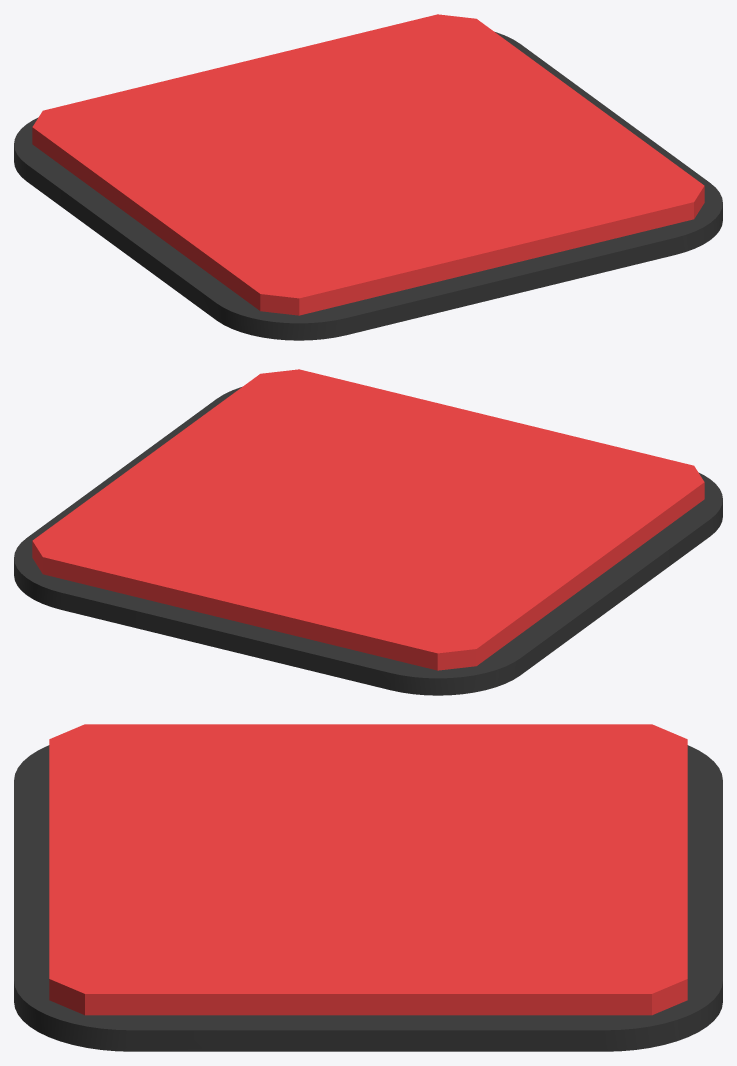
Rendered from pressurePlate.fbx.
The picture shows the model from 3 angles, top to bottom: view 1: azimuth 30°, elevation 25°; view 2: azimuth 150°, elevation 25°; view 3: azimuth 270°, elevation 25°; orthographic projection. The views are drawn at different scales.
Parts seen in each view (by area): view 1: roof_square_23, block_corner_round_small_2, block_4, block_corner_round_small_3, block_5, block_corner_round_small_1, block_8; view 2: roof_square_23, block_corner_round_small_1, block_6, block_corner_round_small_0, block_5, block_corner_round_small_2, block_8; view 3: roof_square_23, block_corner_round_small_0, block_corner_round_small_3, block_8, block_4, block_6, block_corner_round_small_1, block_corner_round_small_2.
Boxes of the visible parts, <box> form: roof_square_23: <box>32,14,704,315</box>; block_corner_round_small_2: <box>169,262,428,340</box>; block_4: <box>415,247,593,314</box>; block_corner_round_small_3: <box>579,148,722,274</box>; block_5: <box>74,193,193,285</box>; block_corner_round_small_1: <box>14,117,98,215</box>; block_8: <box>561,78,662,149</box>; roof_square_23: <box>32,369,704,670</box>; block_corner_round_small_1: <box>308,617,567,695</box>; block_6: <box>143,602,321,669</box>; block_corner_round_small_0: <box>14,503,157,629</box>; block_5: <box>543,548,662,640</box>; block_corner_round_small_2: <box>638,472,722,570</box>; block_8: <box>74,433,175,504</box>; roof_square_23: <box>49,724,687,1015</box>; block_corner_round_small_0: <box>486,930,722,1051</box>; block_corner_round_small_3: <box>14,930,250,1051</box>; block_8: <box>250,1015,486,1051</box>; block_4: <box>14,830,49,930</box>; block_6: <box>687,830,722,930</box>; block_corner_round_small_1: <box>687,745,722,830</box>; block_corner_round_small_2: <box>14,745,49,830</box>.
Bounding box in the file's own units: 30 × 2 × 30.
